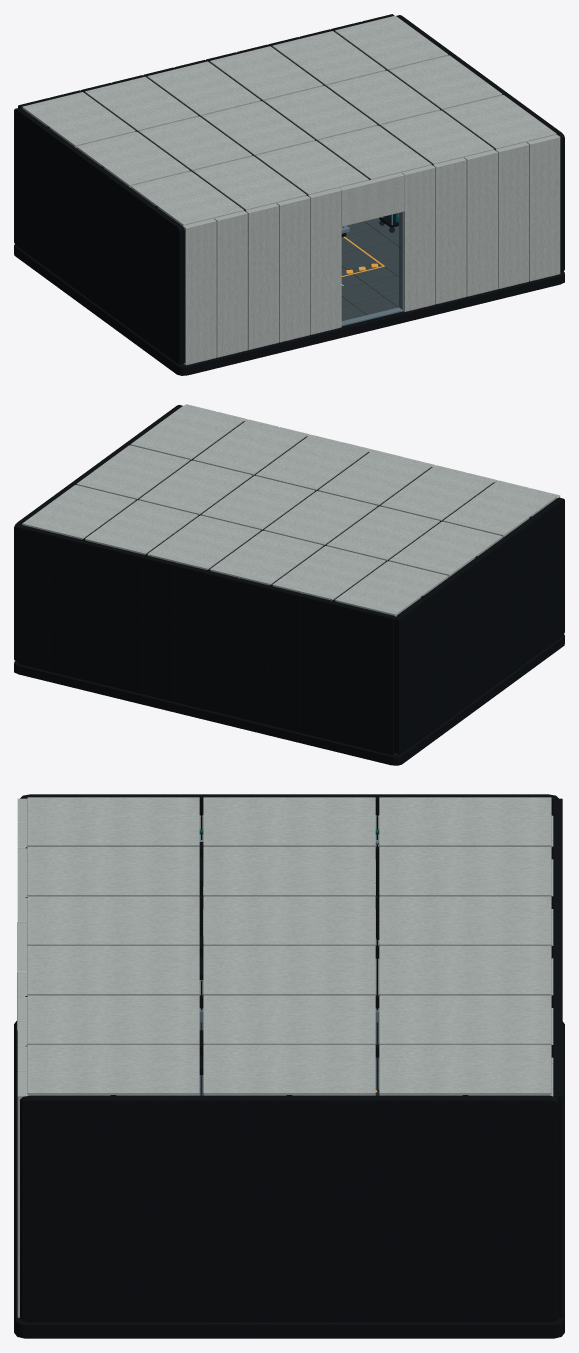
File: inspection-utilities.glb
The picture shows the model from 3 angles, top to bottom: view 1: azimuth 30°, elevation 25°; view 2: azimuth 150°, elevation 25°; view 3: azimuth 270°, elevation 25°; orthographic projection. The views are drawn at different scales.
Visible parts, largest first — view 1: SideWall_Structure, Foundation, FrontWall_Panel.005, FrontWall_Panel, FrontWall_Panel.003, FrontWall_Panel.004, FrontWall_Panel.007, FrontWall_Panel.001, FrontWall_Panel.006, FrontWall_Panel.008, FrontWall_Panel.009, FrontWall_Panel.002 (+27 smaller); view 2: SideWall_Structure, Foundation, RearWall_Structure, RearWall_Structure.003, RearWall_Structure.005, RearWall_Structure.001, RearWall_Structure.004, RearWall_Structure.007, RearWall_Structure.008, RearWall_Structure.002, RearWall_Structure.006, RearWall_Structure.009 (+21 smaller); view 3: SideWall_Structure.001, Foundation, Ceiling_RemovablePanel.016, Ceiling_RemovablePanel.017, Ceiling_RemovablePanel.015, Ceiling_RemovablePanel.001, Ceiling_RemovablePanel.002, Ceiling_RemovablePanel.003, Ceiling_RemovablePanel.004, Ceiling_RemovablePanel.005, Ceiling_RemovablePanel.006, Ceiling_RemovablePanel.007 (+11 smaller).
Boxes of the visible parts, x1,y1,x2,y2 form: SideWall_Structure: (14,107,184,364); Foundation: (14,245,564,375); FrontWall_Panel.005: (402,165,435,311); FrontWall_Panel: (183,218,216,365); FrontWall_Panel.003: (276,195,310,342); FrontWall_Panel.004: (308,188,341,334); FrontWall_Panel.007: (464,149,497,296); FrontWall_Panel.001: (214,211,247,357); FrontWall_Panel.006: (433,157,466,304); FrontWall_Panel.008: (496,142,529,288); FrontWall_Panel.009: (527,134,560,281); FrontWall_Panel.002: (246,203,278,349); SideWall_Structure: (394,497,564,754); Foundation: (14,634,564,765); RearWall_Structure: (361,609,395,755); RearWall_Structure.003: (268,586,301,732); RearWall_Structure.005: (205,571,238,717); RearWall_Structure.001: (330,601,364,747); RearWall_Structure.004: (236,578,270,724); RearWall_Structure.007: (143,555,176,701); RearWall_Structure.008: (111,548,145,694); RearWall_Structure.002: (299,593,332,740); RearWall_Structure.006: (174,563,207,709); RearWall_Structure.009: (80,540,113,686); SideWall_Structure.001: (20,1095,558,1322); Foundation: (14,1021,564,1338); Ceiling_RemovablePanel.016: (203,1045,375,1095); Ceiling_RemovablePanel.017: (379,1045,551,1095); Ceiling_RemovablePanel.015: (27,1045,199,1095); Ceiling_RemovablePanel.001: (203,797,375,846); Ceiling_RemovablePanel.002: (379,797,551,846); Ceiling_RemovablePanel.003: (27,847,199,896); Ceiling_RemovablePanel.004: (203,847,375,896); Ceiling_RemovablePanel.005: (379,847,551,896); Ceiling_RemovablePanel.006: (27,896,199,945); Ceiling_RemovablePanel.007: (203,896,375,945).
Bounding box in the file's own units: 12.4 × 4.52 × 9.4.
17 materials, 6 textured.
